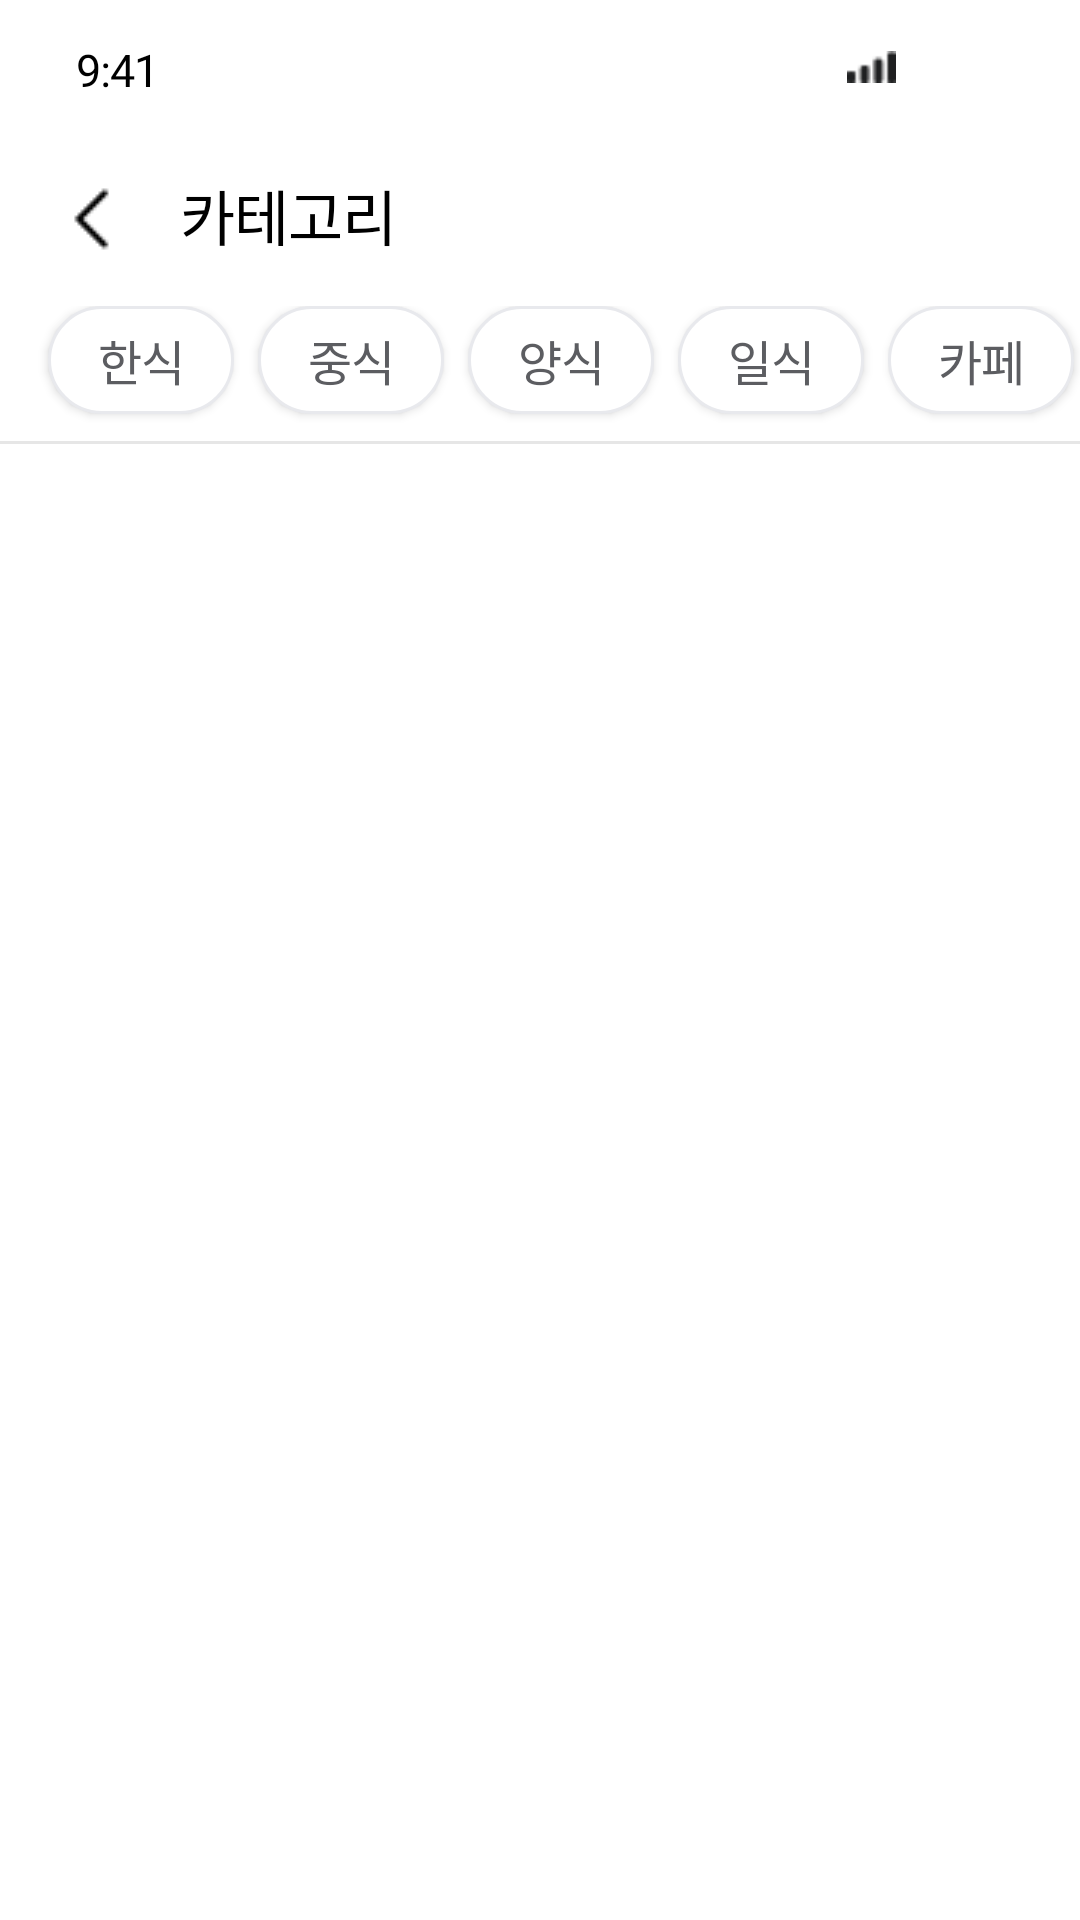

Screen size 1080 x 1920. Icon name, then its box in pixels as [x1, y1, x2, y2]:
cellular: [847, 51, 896, 83]
